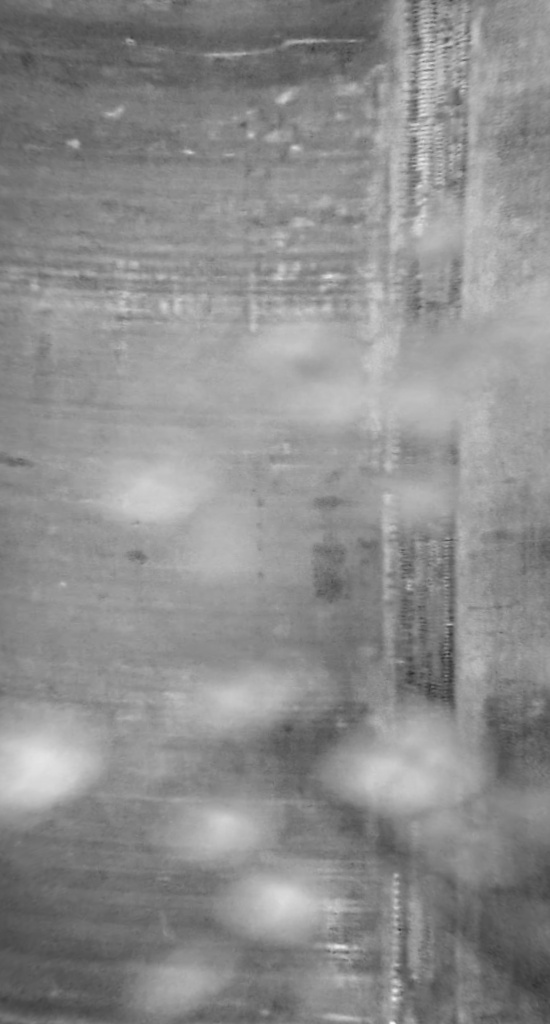splice: (386, 1, 483, 1022)
